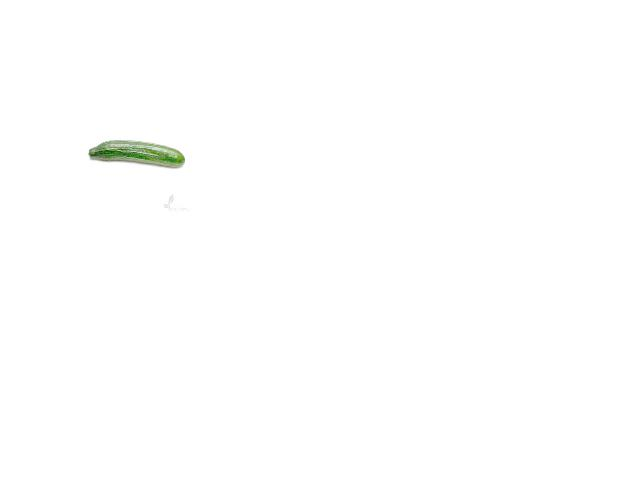cucumber: (88, 140, 185, 167)
